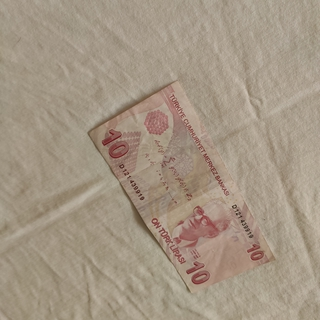10TLBack: (87, 78, 278, 295)
